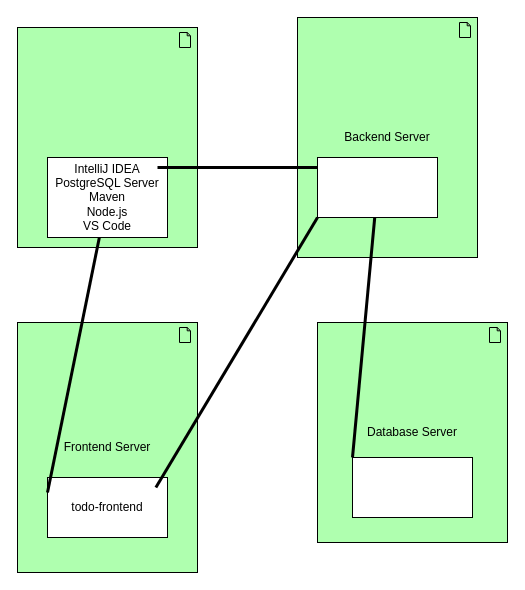
Image size: 525x590. Some labels were removed from this diagram. The shapes that lost their labels are listed below. From the top down, each one's box as (x1, y1, x2, y2) in pixels, then its label:
(16, 26, 198, 248): Development Machine
(316, 156, 438, 218): todo-backend
(352, 456, 472, 518): PostgreSQL instance
